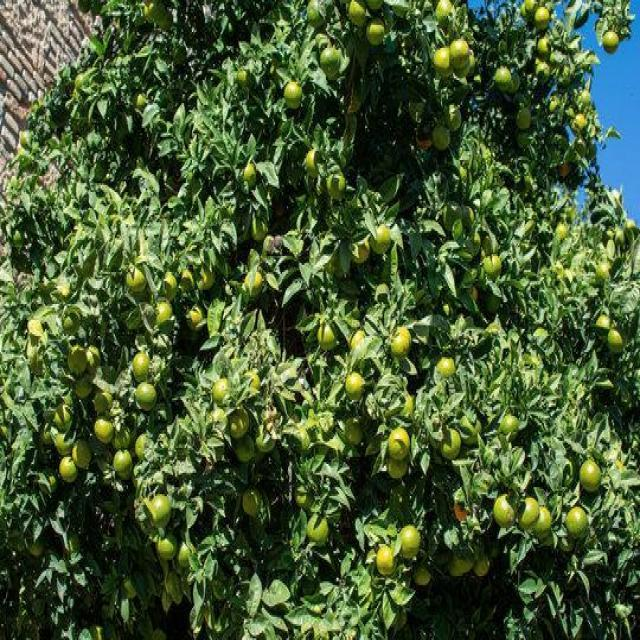Jeruk Belum Matang: (493, 494, 516, 530), (388, 428, 411, 462), (306, 516, 330, 546), (400, 524, 420, 560), (391, 327, 413, 359), (566, 506, 588, 538), (580, 460, 602, 492), (450, 37, 470, 70), (435, 46, 454, 78), (520, 498, 540, 528), (284, 82, 304, 112), (459, 418, 482, 444), (150, 496, 172, 523), (158, 533, 178, 562), (442, 428, 461, 458), (442, 200, 461, 230), (256, 425, 276, 453), (371, 226, 391, 254), (322, 48, 342, 76), (94, 418, 115, 444), (68, 345, 86, 375), (376, 546, 394, 576), (534, 508, 552, 538), (230, 408, 249, 436), (347, 0, 366, 28), (59, 455, 78, 482), (138, 382, 156, 410), (608, 329, 628, 354), (153, 300, 172, 326), (366, 18, 385, 44), (115, 449, 133, 476), (234, 436, 254, 460), (346, 372, 363, 400), (346, 416, 363, 444), (126, 266, 144, 292), (60, 311, 80, 334), (388, 457, 408, 480), (501, 414, 519, 439), (74, 440, 90, 468), (134, 354, 150, 382), (434, 124, 451, 150), (444, 106, 461, 132), (54, 432, 74, 454), (436, 355, 456, 377), (452, 556, 474, 576), (327, 175, 346, 198), (178, 542, 194, 569), (308, 1, 324, 28), (85, 348, 101, 374), (242, 490, 258, 516), (495, 66, 512, 90), (436, 0, 452, 25), (318, 326, 336, 348), (603, 31, 620, 54), (56, 406, 72, 430), (251, 218, 267, 242), (95, 392, 114, 412), (244, 370, 260, 393), (164, 272, 177, 300), (74, 376, 92, 396), (198, 268, 216, 288), (484, 256, 502, 276), (114, 426, 130, 448), (246, 272, 262, 294), (516, 108, 532, 130), (468, 233, 482, 258), (348, 330, 365, 350), (598, 312, 610, 340), (149, 0, 165, 21), (214, 378, 228, 401), (412, 569, 432, 585), (598, 262, 612, 284), (572, 114, 586, 136), (536, 7, 550, 29), (186, 306, 203, 324), (533, 64, 550, 82), (306, 150, 318, 174), (136, 434, 147, 458), (182, 270, 195, 290), (476, 556, 489, 576), (537, 37, 550, 57), (244, 163, 256, 184), (159, 10, 173, 28), (133, 92, 146, 110), (404, 394, 414, 416), (580, 90, 592, 108), (463, 206, 474, 224), (522, 0, 536, 14), (557, 224, 567, 240)
Jeruk Sudah Matang: (456, 499, 476, 521)
